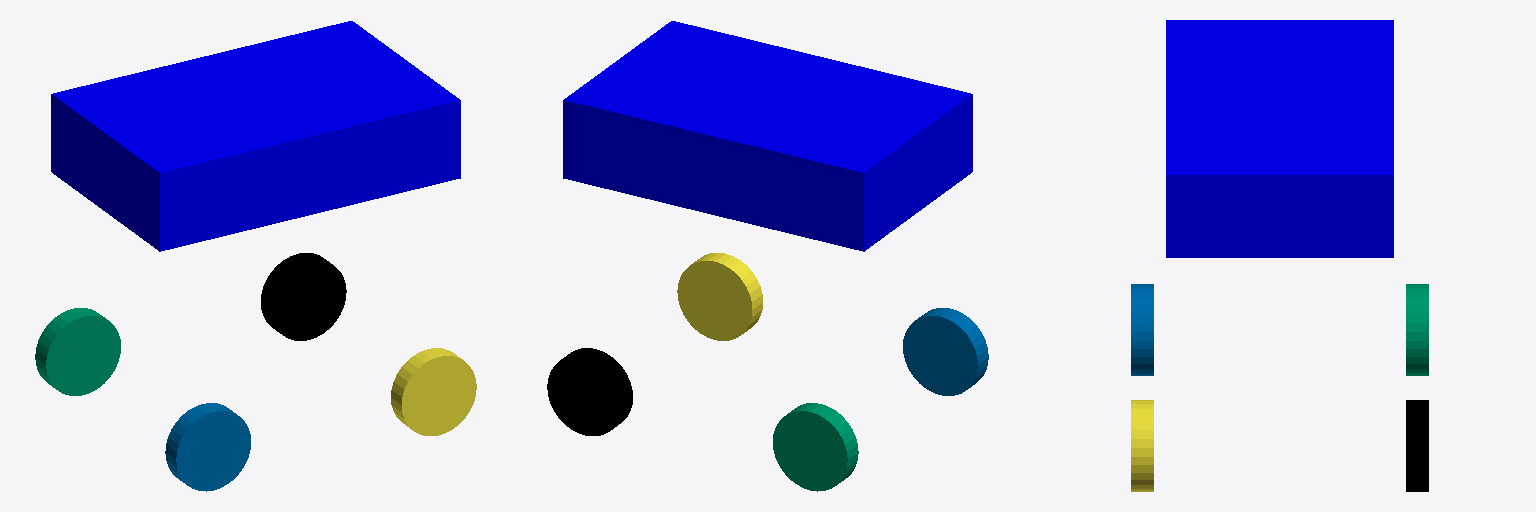
robot.urdf — four_wheel:
<?xml version="1.0"?>
<robot name="four_wheel" xmlns:xacro="http://ros.org/wiki/xacro">

  <!-- Base link (车身) -->
  <link name="base_link">
    <inertial>
      <mass value="20.0"/>
      <origin xyz="0 0 0" rpy="0 0 0"/>
      <inertia ixx="1" iyy="1" izz="1"
               ixy="0" ixz="0" iyz="0"/>
    </inertial>
    <visual>
	  <origin
        xyz="0 0 0.3"
        rpy="0 0 0" />
      <geometry>
        <box size="0.8 0.5 0.2"/> <!-- 长宽高 -->
      </geometry>
      <material name="blue">
        <color rgba="0 0 1 1"/>
      </material>
    </visual>
    <collision>
	  <origin
        xyz="0 0 0.3"
        rpy="0 0 0" />
      <geometry>
        <box size="0.8 0.5 0.2"/>
      </geometry>
    </collision>
  </link>

  <!-- ===== 四个轮子 ===== -->
  <!-- 左前轮 -->
  <link name="left_front_wheel">
    <visual>
      <geometry>
        <cylinder radius="0.1" length="0.05"/>
      </geometry>
      <origin xyz="0 0 0" rpy="1.5707 0 0"/>
      <material name="black">
        <color rgba="0 0 0 1"/>
      </material>
    </visual>
    <collision>
      <geometry>
        <cylinder radius="0.1" length="0.05"/>
      </geometry>
      <origin xyz="0 0 0" rpy="1.5707 0 0"/>
      <surface>
        <friction>
          <ode>
            <mu>1.0</mu>
            <mu2>1.0</mu2>
          </ode>
        </friction>
      </surface>
    </collision>
  </link>

  <!-- 左后轮 -->
  <link name="left_rear_wheel">
    <visual>
      <geometry>
        <cylinder radius="0.1" length="0.05"/>
      </geometry>
      <origin xyz="0 0 0" rpy="1.5707 0 0"/>
    </visual>
    <collision>
      <geometry>
        <cylinder radius="0.1" length="0.05"/>
      </geometry>
      <origin xyz="0 0 0" rpy="1.5707 0 0"/>
      <surface>
        <friction>
          <ode>
            <mu>1.0</mu>
            <mu2>1.0</mu2>
          </ode>
        </friction>
      </surface>
    </collision>
  </link>

  <!-- 右前轮 -->
  <link name="right_front_wheel">
    <visual>
      <geometry>
        <cylinder radius="0.1" length="0.05"/>
      </geometry>
      <origin xyz="0 0 0" rpy="1.5707 0 0"/>
    </visual>
    <collision>
      <geometry>
        <cylinder radius="0.1" length="0.05"/>
      </geometry>
      <origin xyz="0 0 0" rpy="1.5707 0 0"/>
      <surface>
        <friction>
          <ode>
            <mu>1.0</mu>
            <mu2>1.0</mu2>
          </ode>
        </friction>
      </surface>
    </collision>
  </link>

  <!-- 右后轮 -->
  <link name="right_rear_wheel">
    <visual>
      <geometry>
        <cylinder radius="0.1" length="0.05"/>
      </geometry>
      <origin xyz="0 0 0" rpy="1.5707 0 0"/>
    </visual>
    <collision>
      <geometry>
        <cylinder radius="0.1" length="0.05"/>
      </geometry>
      <origin xyz="0 0 0" rpy="1.5707 0 0"/>
      <surface>
        <friction>
          <ode>
            <mu>1.0</mu>
            <mu2>1.0</mu2>
          </ode>
        </friction>
      </surface>
    </collision>
  </link>

  <!-- ===== 四个轮子关节 ===== -->
  <joint name="left_front_wheel_joint" type="continuous">
    <parent link="base_link"/>
    <child link="left_front_wheel"/>
    <origin xyz="0.3 0.3 -0.3" rpy="0 0 0"/>
    <axis xyz="0 1 0"/>
  </joint>

  <joint name="left_rear_wheel_joint" type="continuous">
    <parent link="base_link"/>
    <child link="left_rear_wheel"/>
    <origin xyz="-0.3 0.3 -0.3" rpy="0 0 0"/>
    <axis xyz="0 1 0"/>
  </joint>

  <joint name="right_front_wheel_joint" type="continuous">
    <parent link="base_link"/>
    <child link="right_front_wheel"/>
    <origin xyz="0.3 -0.3 -0.3" rpy="0 0 0"/>
    <axis xyz="0 1 0"/>
  </joint>

  <joint name="right_rear_wheel_joint" type="continuous">
    <parent link="base_link"/>
    <child link="right_rear_wheel"/>
    <origin xyz="-0.3 -0.3 -0.3" rpy="0 0 0"/>
    <axis xyz="0 1 0"/>
  </joint>

  <!-- ===== Gazebo 插件 (Skid Steer Drive) ===== -->
  <gazebo>
    <plugin name="skid_steer_drive" filename="libgazebo_ros_skid_steer_drive.so">
      <commandTopic>cmd_vel</commandTopic>
      <odometryTopic>odom</odometryTopic>
      <odometryFrame>odom</odometryFrame>
      <robotBaseFrame>base_link</robotBaseFrame>

      <leftFrontJoint>left_front_wheel_joint</leftFrontJoint>
      <leftRearJoint>left_rear_wheel_joint</leftRearJoint>
      <rightFrontJoint>right_front_wheel_joint</rightFrontJoint>
      <rightRearJoint>right_rear_wheel_joint</rightRearJoint>

      <wheelSeparation>0.5</wheelSeparation>
      <wheelDiameter>0.2</wheelDiameter>
      <wheelTorque>10.0</wheelTorque>
      <updateRate>50.0</updateRate>
    </plugin>
  </gazebo>

</robot>

--- Render facts (derived) ---
3 views of the same robot in one strip: view 1: azimuth 30°, elevation 25°; view 2: azimuth 150°, elevation 25°; view 3: azimuth 270°, elevation 25° (orthographic).
Model four_wheel with 5 links and 4 joints (4 continuous), rooted at base_link, posed all joints at 0.
Visible links, largest first — view 1: base_link, right_rear_wheel, left_rear_wheel, left_front_wheel, right_front_wheel; view 2: base_link, left_rear_wheel, right_rear_wheel, left_front_wheel, right_front_wheel; view 3: base_link, left_front_wheel, left_rear_wheel, right_front_wheel, right_rear_wheel.
Link boxes in pixels (x1,y1,x2,y2): base_link: (51, 21, 460, 251); right_rear_wheel: (165, 403, 250, 491); left_rear_wheel: (35, 308, 120, 395); left_front_wheel: (261, 253, 346, 340); right_front_wheel: (391, 348, 476, 435); base_link: (563, 21, 972, 251); left_rear_wheel: (773, 403, 858, 491); right_rear_wheel: (903, 308, 988, 395); left_front_wheel: (547, 348, 632, 435); right_front_wheel: (677, 253, 762, 340); base_link: (1166, 20, 1393, 257); left_front_wheel: (1406, 400, 1428, 491); left_rear_wheel: (1406, 284, 1428, 375); right_front_wheel: (1131, 400, 1153, 491); right_rear_wheel: (1131, 284, 1153, 375).
Bounding box of the posed robot: 0.8 × 0.65 × 0.8 m (x, y, z).
Geometry: primitives only (box / cylinder / sphere), no mesh files.
